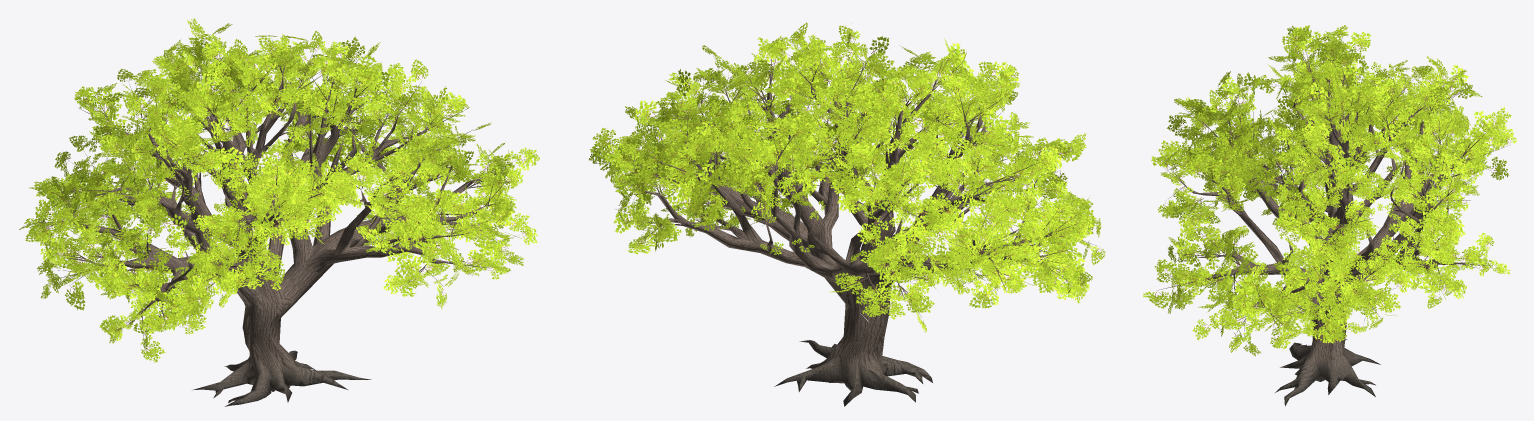
Rendered from Triadica_Spring_LOD1.glb.
The picture shows the model from 3 angles, left to right: view 1: azimuth 30°, elevation 25°; view 2: azimuth 150°, elevation 25°; view 3: azimuth 270°, elevation 25°; orthographic projection. The views are drawn at different scales.
Visible parts, largest first — view 1: Triadica_Spring_Shoots_LOD1, Triadica_Wood_LOD1; view 2: Triadica_Spring_Shoots_LOD1, Triadica_Wood_LOD1; view 3: Triadica_Spring_Shoots_LOD1, Triadica_Wood_LOD1.
Part boxes in pixels (bbox=[...]): Triadica_Spring_Shoots_LOD1: bbox=[19, 18, 539, 362]; Triadica_Wood_LOD1: bbox=[26, 40, 518, 406]; Triadica_Spring_Shoots_LOD1: bbox=[589, 22, 1105, 332]; Triadica_Wood_LOD1: bbox=[594, 44, 1096, 406]; Triadica_Spring_Shoots_LOD1: bbox=[1143, 25, 1516, 356]; Triadica_Wood_LOD1: bbox=[1158, 36, 1508, 406].
Bounding box in the file's own units: 17.09 × 11.72 × 12.37.
Materials: 2 (2 with a texture image).
